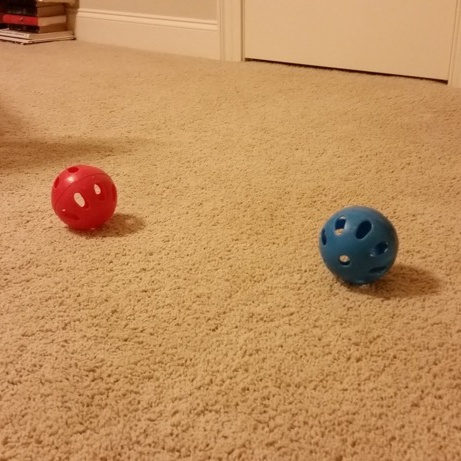blueball: (314, 204, 402, 288)
redball: (47, 162, 121, 233)
